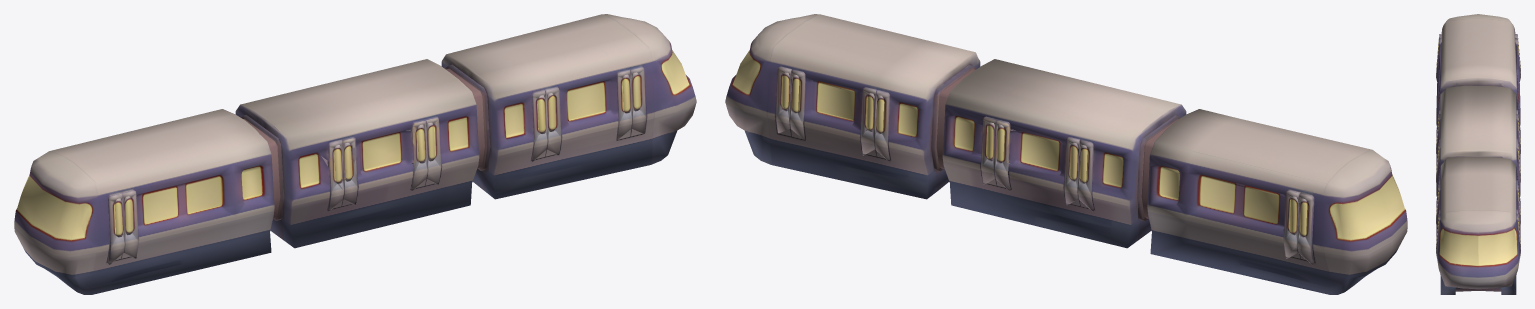
Rendered from raw.glb.
3 views of the same model, side by side, from view 1: azimuth 30°, elevation 25°; view 2: azimuth 150°, elevation 25°; view 3: azimuth 270°, elevation 25° (orthographic). The views are drawn at different scales.
Parts seen in each view (by area): view 1: tripo_node_de4a8282-4ef9-4bdd-a4bb-0aa8d3634333; view 2: tripo_node_de4a8282-4ef9-4bdd-a4bb-0aa8d3634333; view 3: tripo_node_de4a8282-4ef9-4bdd-a4bb-0aa8d3634333.
Part boxes in pixels (box(x1,y1,x2,y2)): tripo_node_de4a8282-4ef9-4bdd-a4bb-0aa8d3634333: box(14, 14, 696, 294); tripo_node_de4a8282-4ef9-4bdd-a4bb-0aa8d3634333: box(725, 14, 1407, 294); tripo_node_de4a8282-4ef9-4bdd-a4bb-0aa8d3634333: box(1436, 14, 1520, 294).
Size of the model in its own units: 0.9995 by 0.1714 by 0.1577.
1 material, 1 textured.
